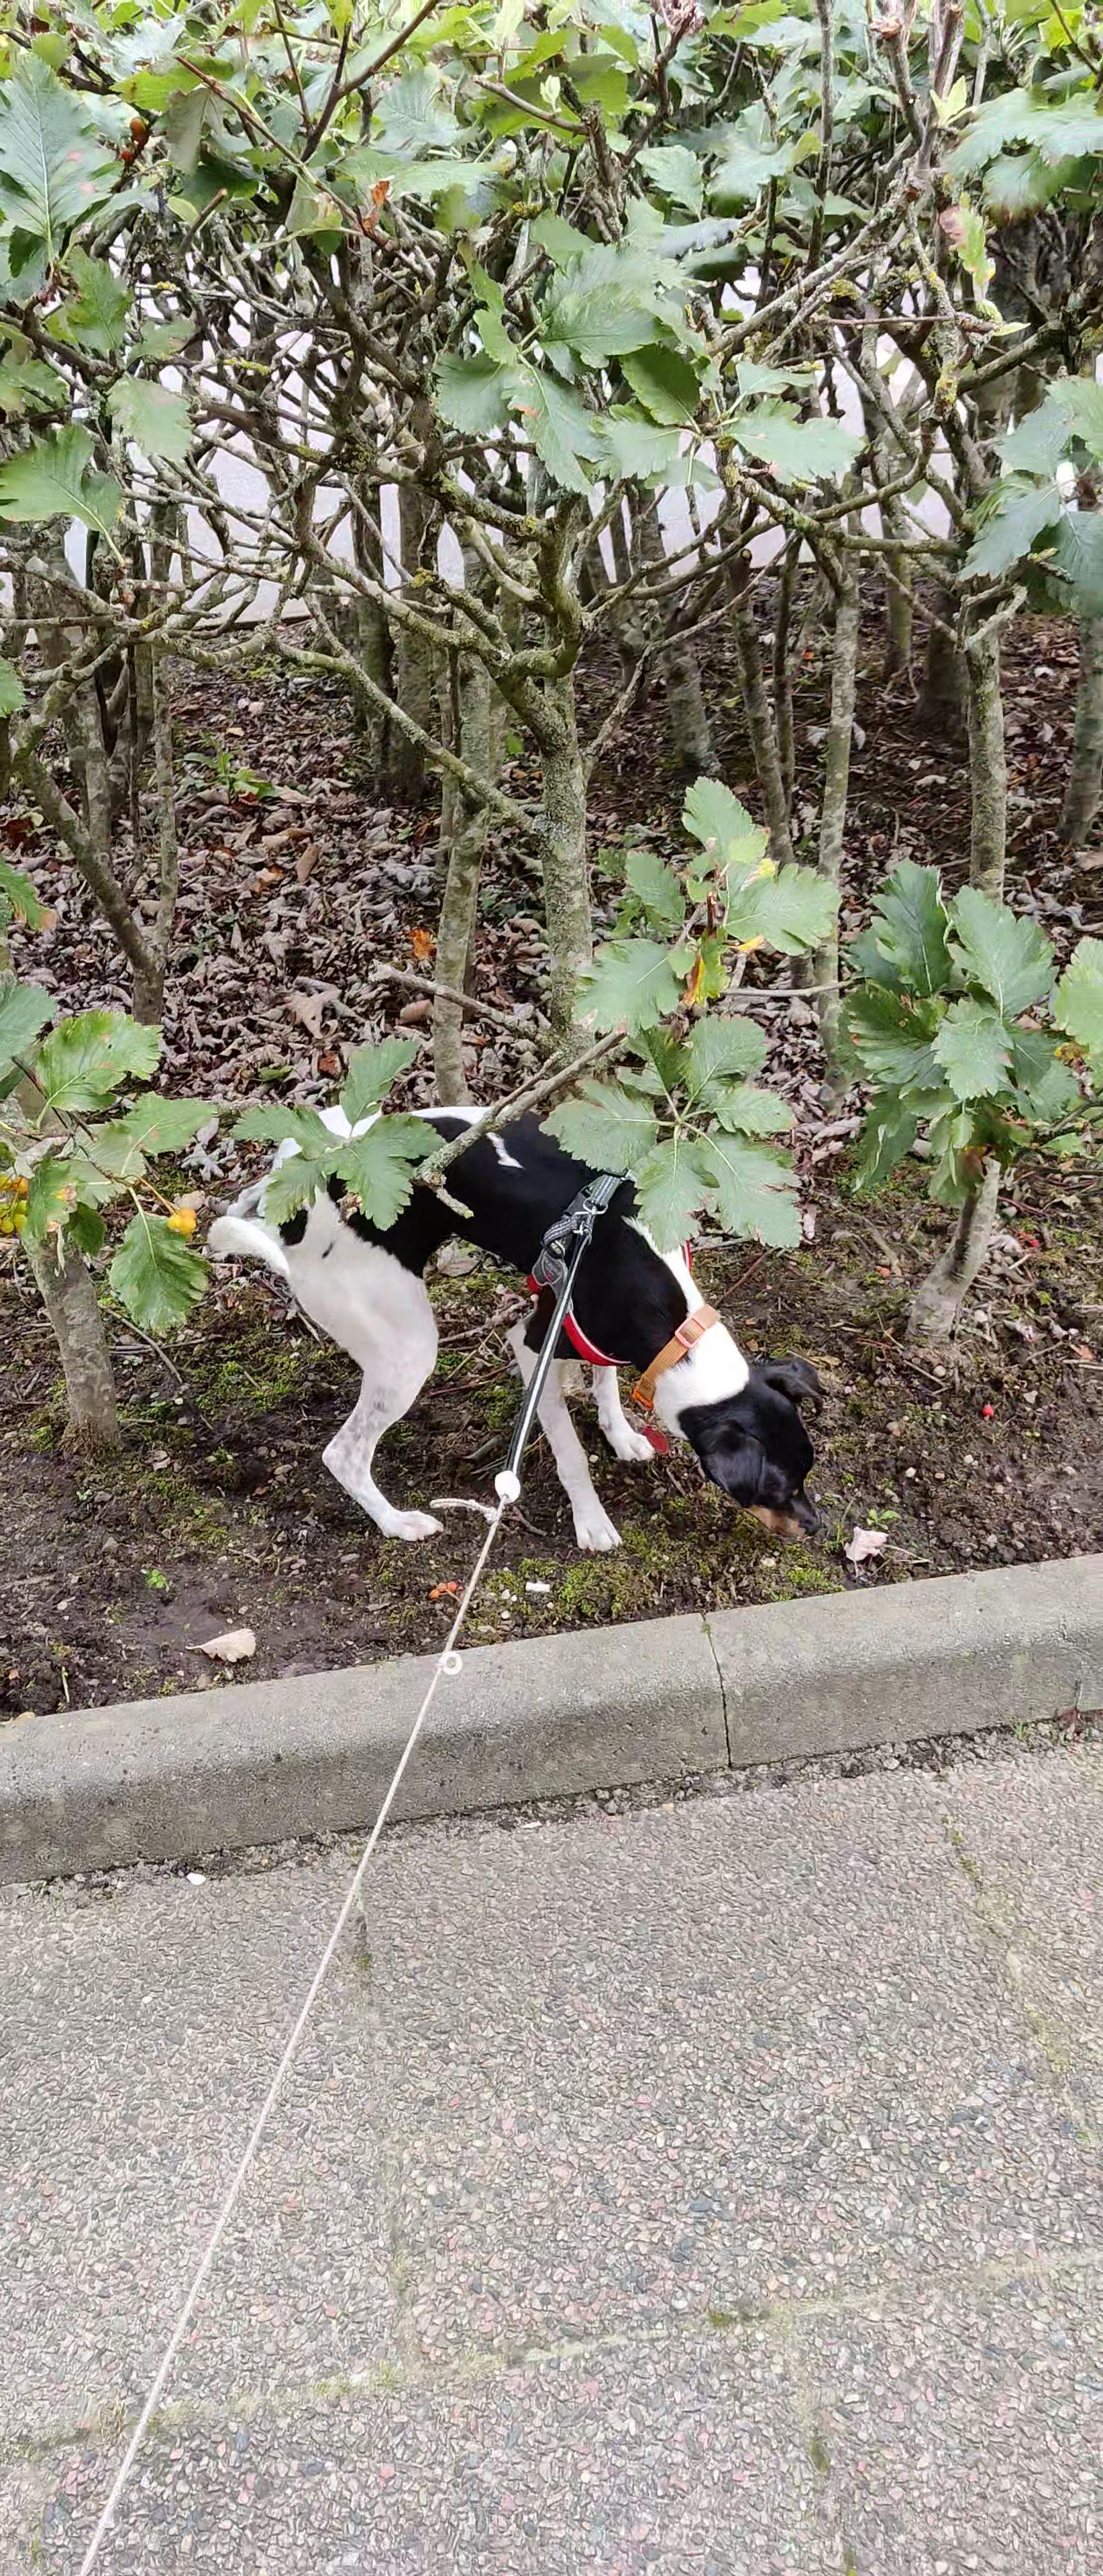Dog: (197, 1101, 828, 1554)
